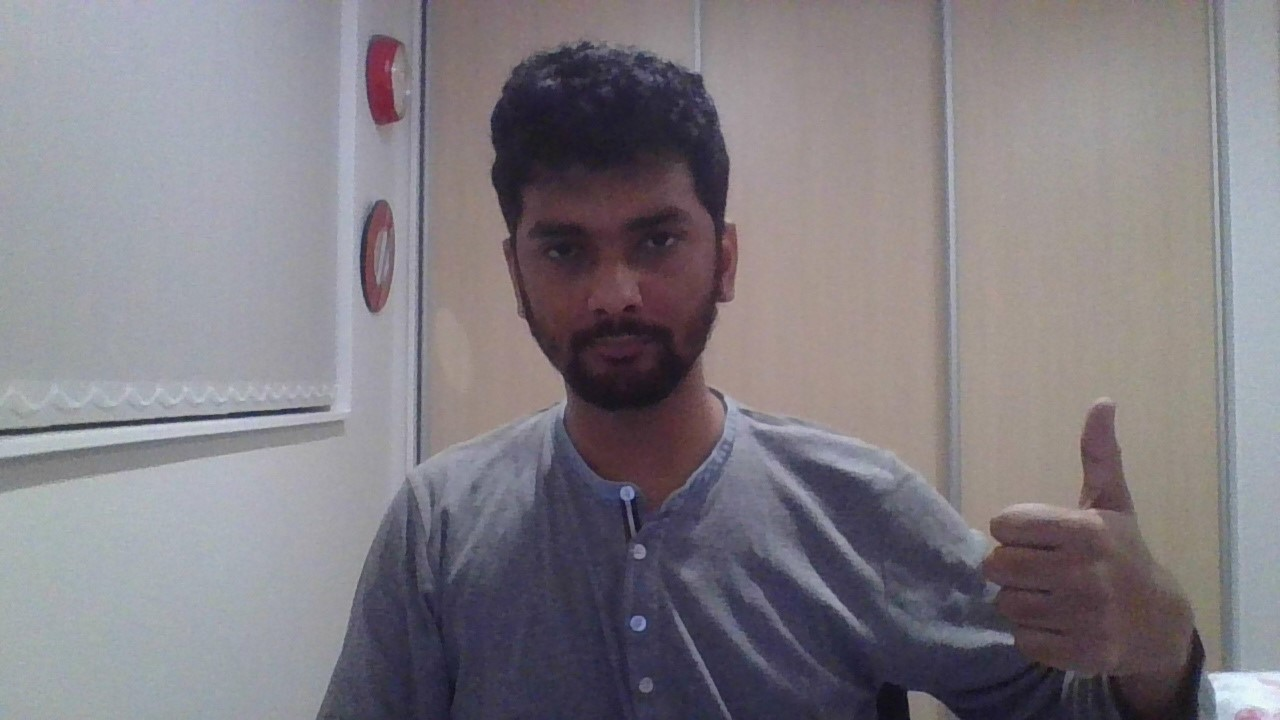good: (982, 398, 1190, 676)
